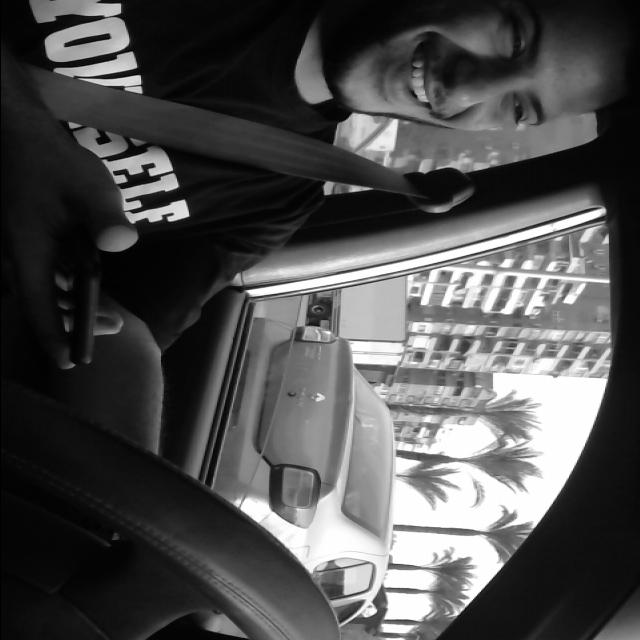mobile use: (50, 250, 116, 372)
